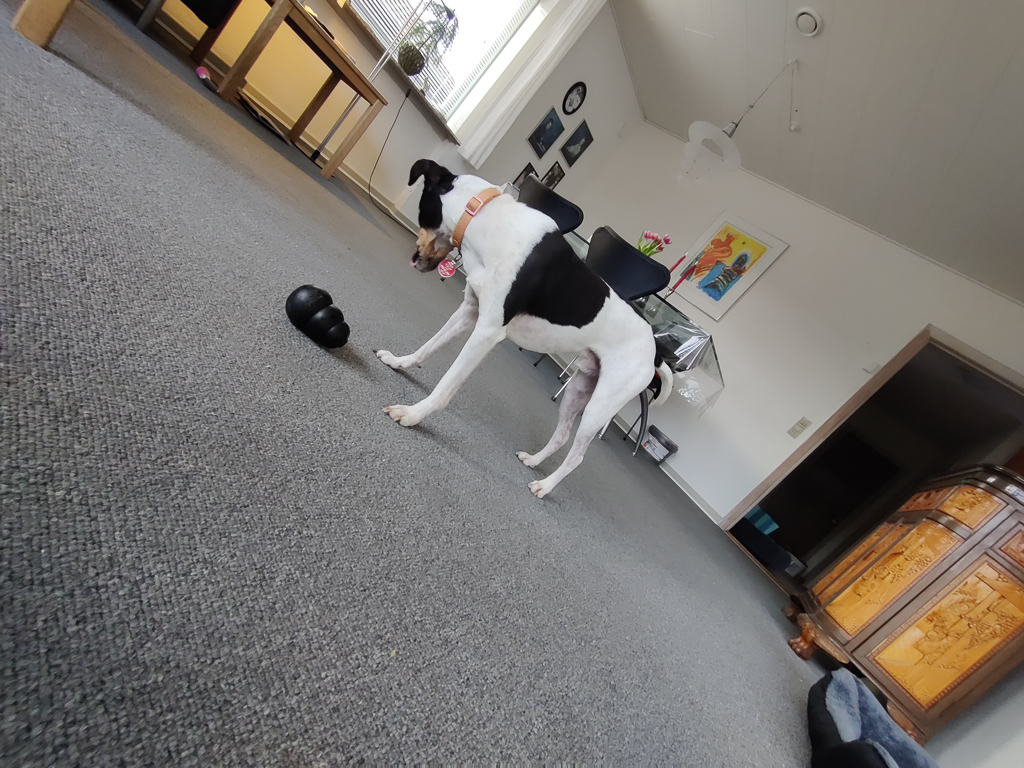Dog: (366, 143, 688, 514)
